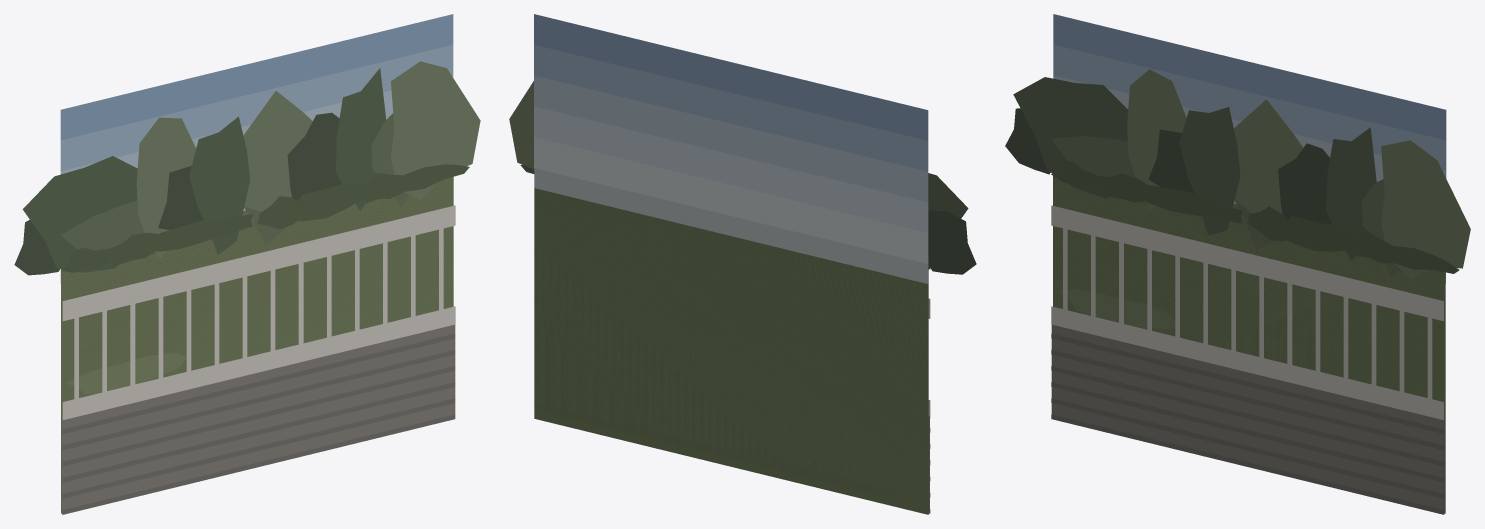
The model's file is view_n5.glb.
3 views of the same model, side by side, from view 1: azimuth 30°, elevation 25°; view 2: azimuth 150°, elevation 25°; view 3: azimuth 330°, elevation 25° (orthographic).
Parts seen in each view (by area): view 1: root; view 2: root; view 3: root.
Part boxes in pixels (x1,y1,x2,y2): root: (14,14,480,514); root: (509,14,976,514); root: (1005,14,1470,514).
Size of the model in its own units: 3.02 by 2.5 by 0.025.
